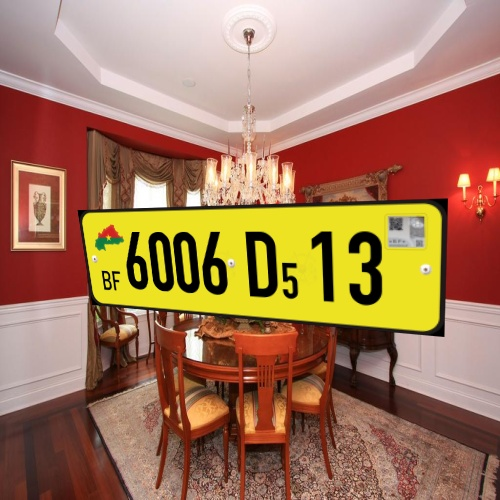plate: (69, 191, 469, 350)
